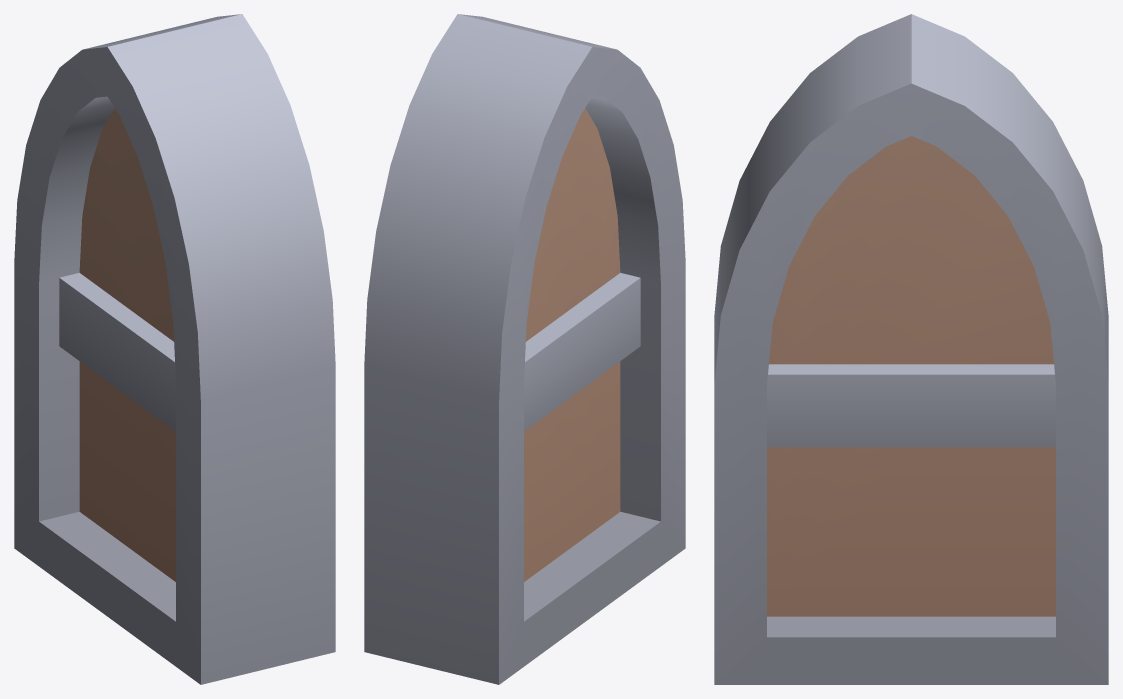
File: door.glb
3 renders of one model, left to right at view 1: azimuth 30°, elevation 25°; view 2: azimuth 150°, elevation 25°; view 3: azimuth 270°, elevation 25°, orthographic. The views are drawn at different scales.
Visible parts, largest first — view 1: door; view 2: door; view 3: door.
Part boxes in pixels (x1=…): door: x1=14, y1=14, x2=335, y2=684; door: x1=364, y1=14, x2=685, y2=684; door: x1=714, y1=14, x2=1108, y2=684.
Size of the model in its own units: 0.15 by 0.6053 by 0.3594.
